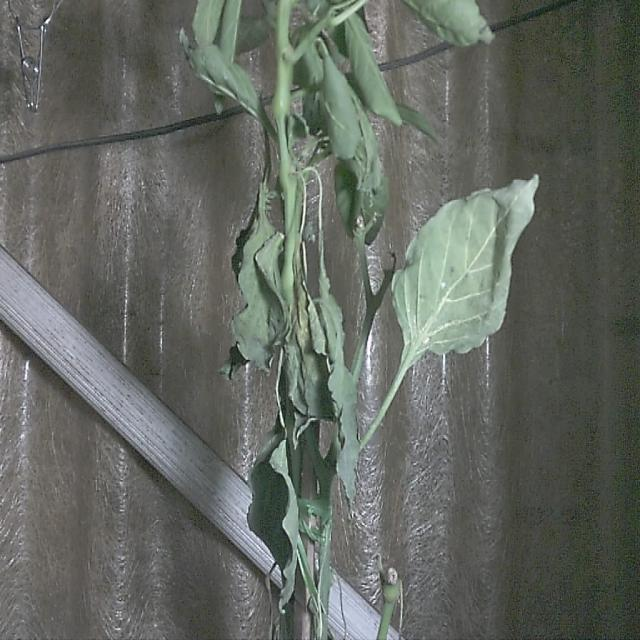Leaf: (389, 173, 539, 357), (247, 430, 298, 616)
